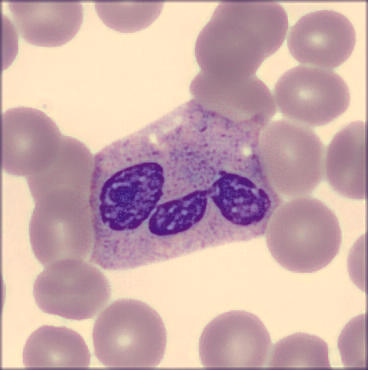WBC: (89, 97, 278, 275)
